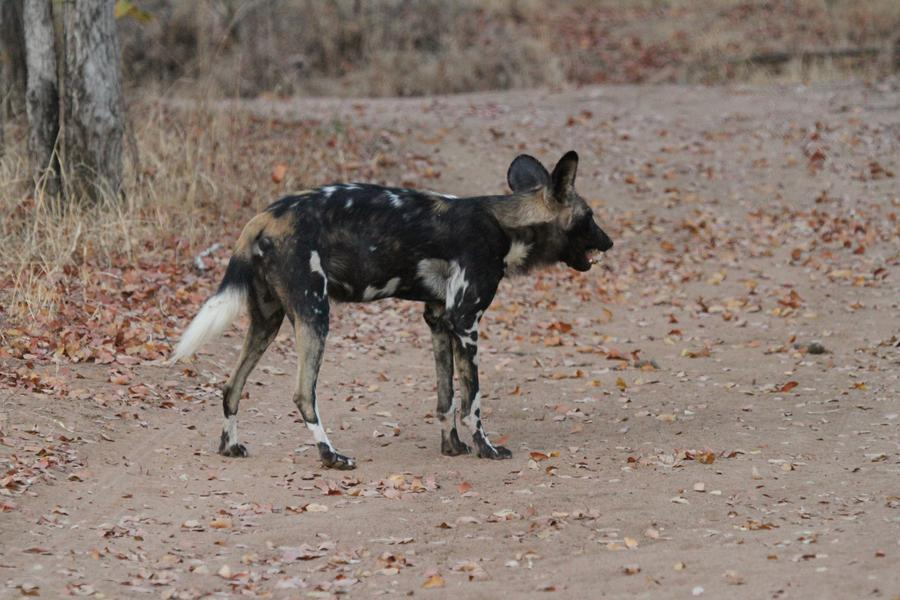wilddog: (181, 153, 616, 330)
